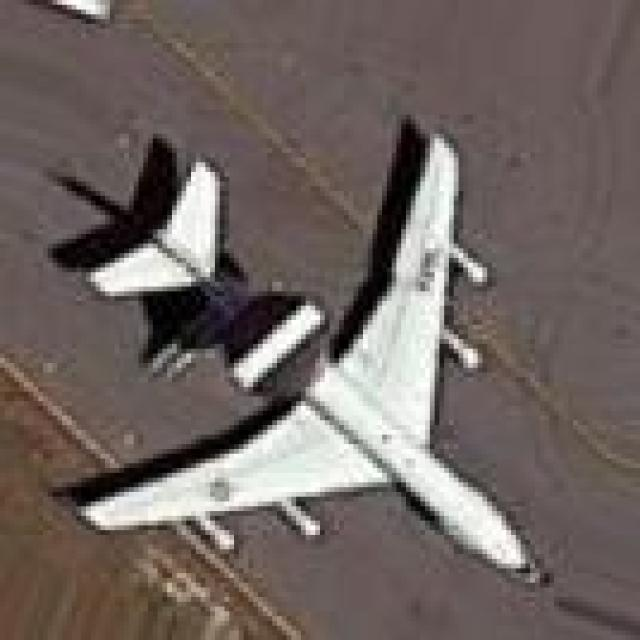E-3_TopDown: (52, 110, 544, 583)
